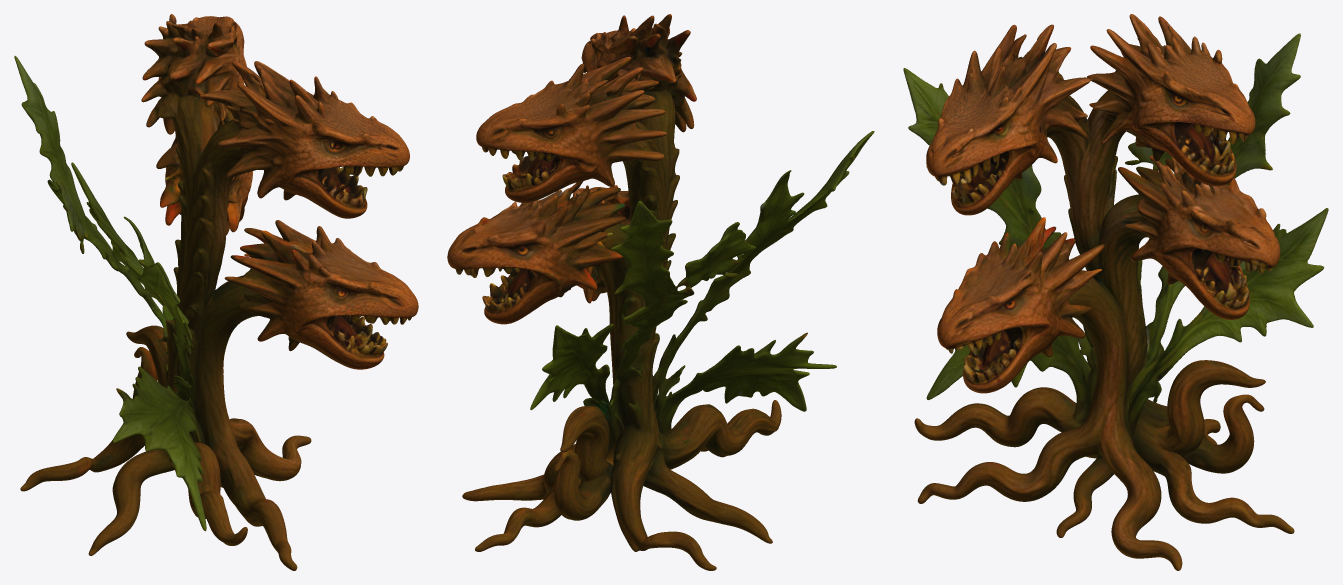
Rendered from Flora13.glb.
3 renders of one model, left to right at view 1: azimuth 30°, elevation 25°; view 2: azimuth 150°, elevation 25°; view 3: azimuth 270°, elevation 25°, orthographic. The views are drawn at different scales.
Parts seen in each view (by area): view 1: tripo_node_c352d655-ee4f-4e90-82e6-538cc870ba59; view 2: tripo_node_c352d655-ee4f-4e90-82e6-538cc870ba59; view 3: tripo_node_c352d655-ee4f-4e90-82e6-538cc870ba59.
Part boxes in pixels (x1=…): tripo_node_c352d655-ee4f-4e90-82e6-538cc870ba59: x1=14, y1=14, x2=418, y2=570; tripo_node_c352d655-ee4f-4e90-82e6-538cc870ba59: x1=447, y1=14, x2=874, y2=570; tripo_node_c352d655-ee4f-4e90-82e6-538cc870ba59: x1=903, y1=14, x2=1328, y2=570.
Size of the model in its own units: 0.638 by 1 by 0.7822.
Materials: 1 (1 with a texture image).
